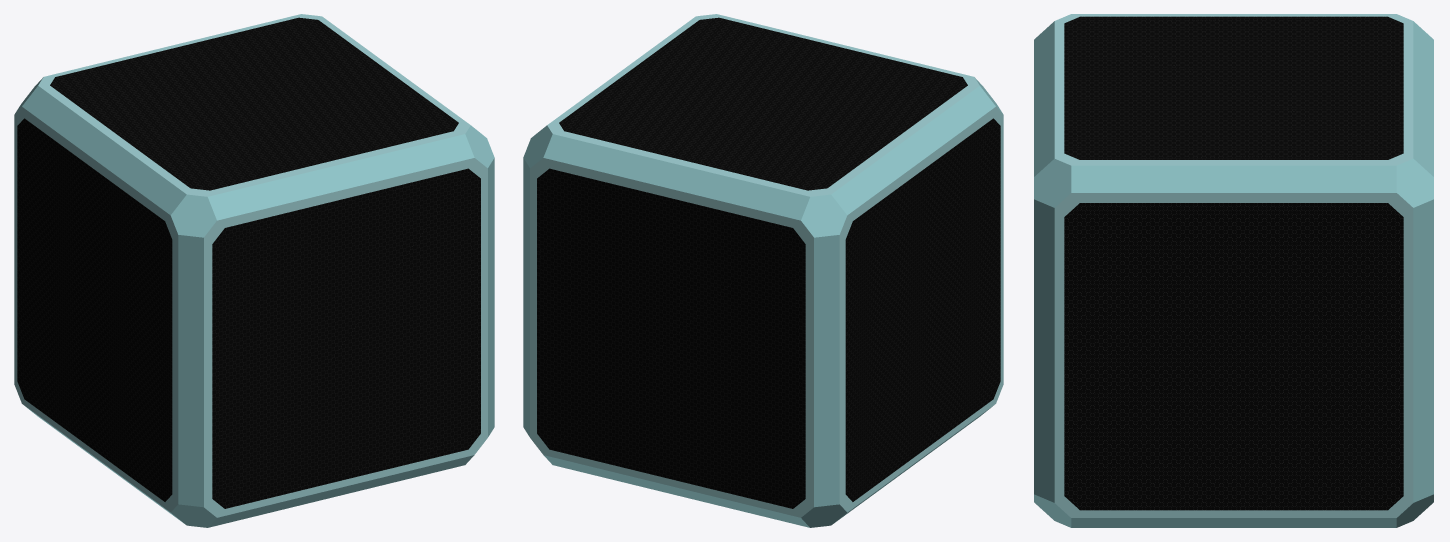
File: Itr_Obj_Speaker4_06.FBX
The picture shows the model from 3 angles, left to right: view 1: azimuth 30°, elevation 25°; view 2: azimuth 150°, elevation 25°; view 3: azimuth 270°, elevation 25°; orthographic projection. The views are drawn at different scales.
Visible parts, largest first — view 1: Itr_Obj_Speaker4_06; view 2: Itr_Obj_Speaker4_06; view 3: Itr_Obj_Speaker4_06.
Part boxes in pixels (box(x1,y1,x2,y2)): Itr_Obj_Speaker4_06: box(14, 14, 494, 527); Itr_Obj_Speaker4_06: box(523, 14, 1003, 527); Itr_Obj_Speaker4_06: box(1034, 14, 1433, 527).
Size of the model in its own units: 10.52 by 10.46 by 10.52.
